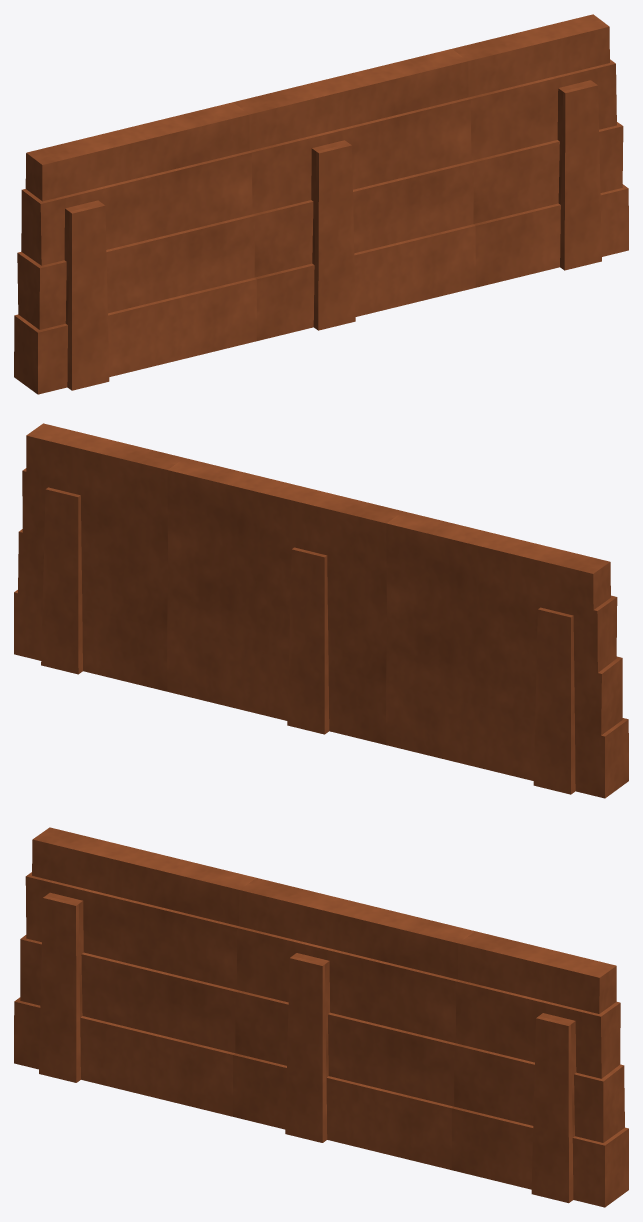
File: SM_CompoundWall.fbx
The picture shows the model from 3 angles, top to bottom: view 1: azimuth 30°, elevation 25°; view 2: azimuth 150°, elevation 25°; view 3: azimuth 330°, elevation 25°; orthographic projection.
Parts seen in each view (by area): view 1: SM_CompoundWall; view 2: SM_CompoundWall; view 3: SM_CompoundWall.
Part boxes in pixels (x1=…): SM_CompoundWall: x1=14, y1=14, x2=628, y2=394; SM_CompoundWall: x1=14, y1=423, x2=628, y2=798; SM_CompoundWall: x1=14, y1=827, x2=628, y2=1207.
Bounding box in the file's own units: 600 × 215 × 58.
